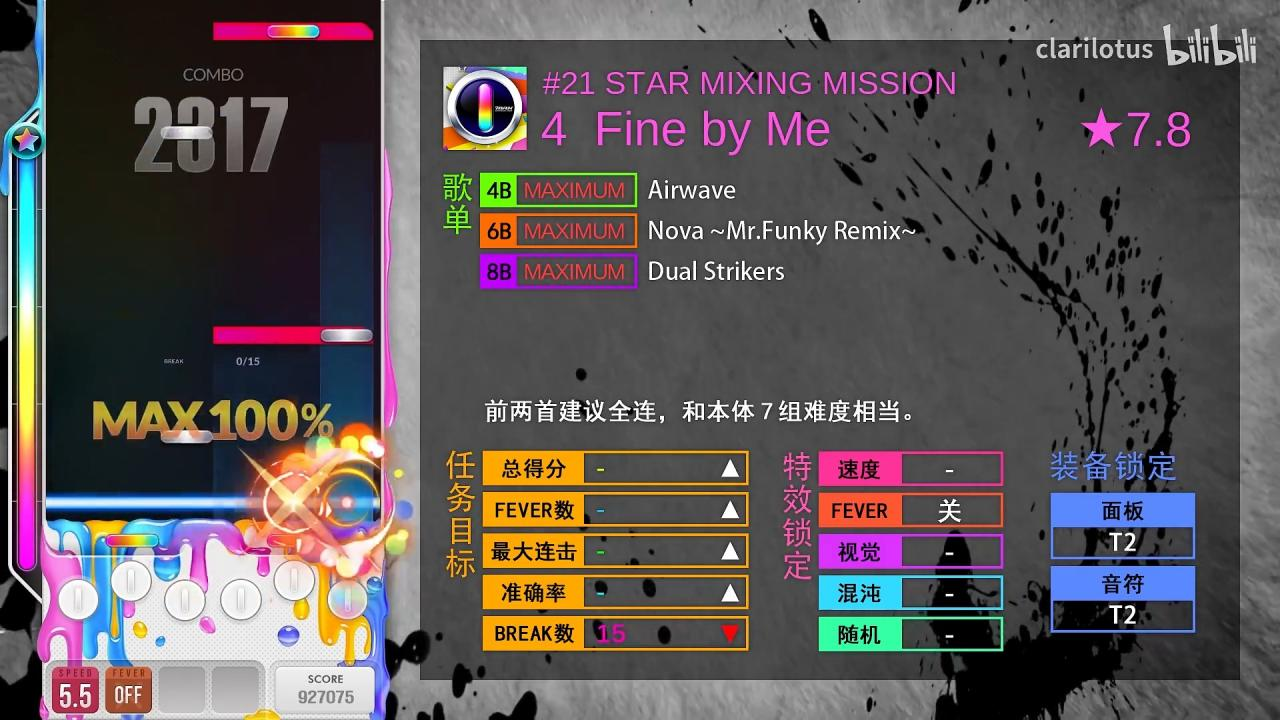note: (319, 328, 374, 343), (268, 24, 320, 38), (161, 430, 213, 444), (161, 126, 213, 140)
xnote: (214, 22, 374, 40), (214, 327, 375, 344)
